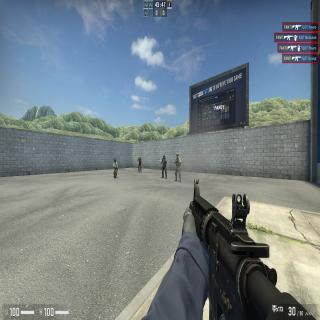CT-Body: (175, 153, 181, 182), (162, 154, 166, 179)
CT-Head: (176, 153, 179, 158), (163, 154, 165, 158)
T-Body: (138, 156, 141, 172)
T-Head: (139, 156, 140, 159)
